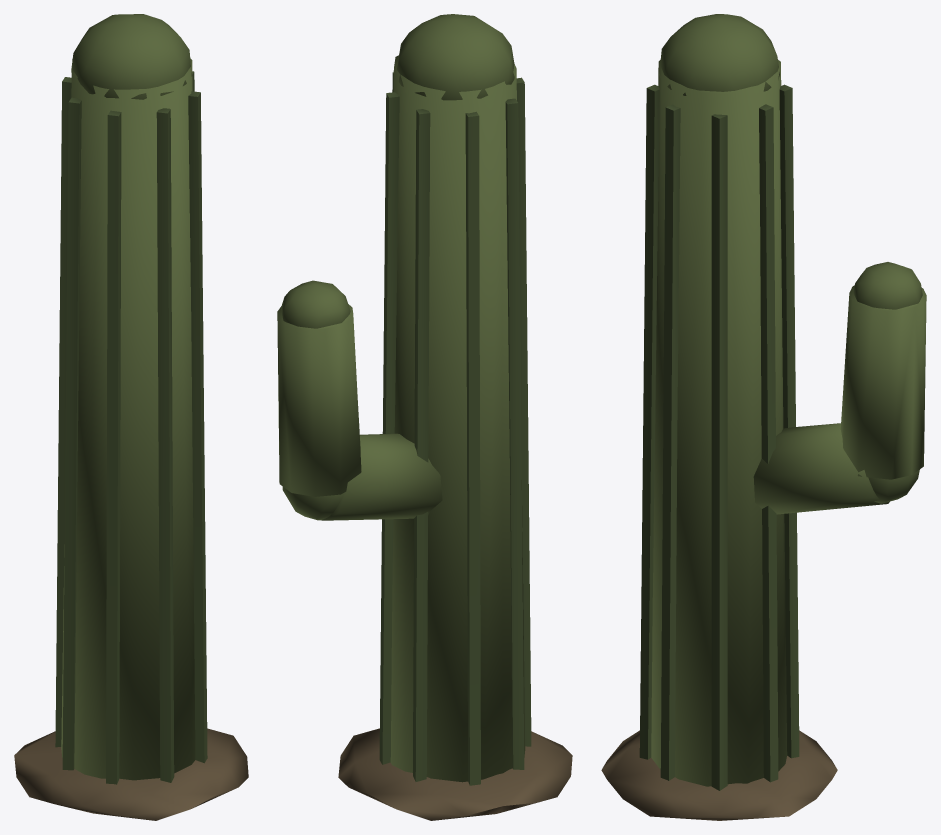
File: saguaro_c_lod1.glb
3 renders of one model, left to right at view 1: azimuth 30°, elevation 25°; view 2: azimuth 150°, elevation 25°; view 3: azimuth 270°, elevation 25°, orthographic.
Visible parts, largest first — view 1: Surface.001; view 2: Surface.001; view 3: Surface.001.
Part boxes in pixels (x1,y1,x2,y2): Surface.001: (14,14,248,820); Surface.001: (277,14,572,820); Surface.001: (601,14,926,820).
Size of the model in its own units: 1.02 by 3.68 by 1.4.
